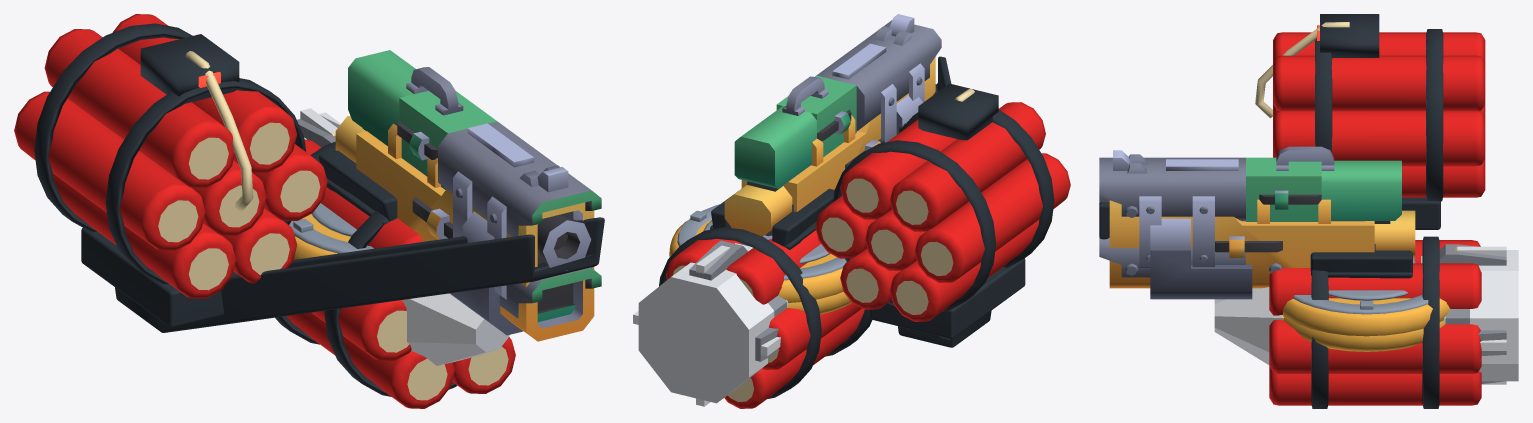
The model's file is arsenal-mounted.glb.
3 renders of one model, left to right at view 1: azimuth 30°, elevation 25°; view 2: azimuth 150°, elevation 25°; view 3: azimuth 270°, elevation 25°, orthographic. The views are drawn at different scales.
Visible parts, largest first — view 1: BombStowedDynamite, BombEjector, SeekerHousing, RocketHousing, BombStowedBandsAndSensor, BombStowedFuse, BombShotDynamite, RocketShotBody, BombShotFuse, BombShotBandsAndSensor, SeekerSaddle, MineRimAndFuze (+1 smaller); view 2: BombStowedDynamite, SeekerHousing, RocketShotBody, BombStowedBandsAndSensor, BombShotDynamite, RocketHousing, BombStowedFuse, BombEjector, BombShotBandsAndSensor, SeekerSaddle, MinePressureShell, MineRimAndFuze (+3 smaller); view 3: BombStowedDynamite, SeekerHousing, BombShotDynamite, RocketHousing, RocketShotBody, BombStowedBandsAndSensor, BombShotBandsAndSensor, MinePressureShell, SeekerSaddle, MineRimAndFuze, MineTrapPressureShell, BombEjector (+3 smaller).
Part boxes in pixels (x1,y1,x2,y2): BombStowedDynamite: (14,14,327,298); BombEjector: (81,217,604,332); SeekerHousing: (348,50,601,321); RocketHousing: (335,116,594,341); BombStowedBandsAndSensor: (34,23,306,284); BombStowedFuse: (158,51,320,290); BombShotDynamite: (286,139,515,408); RocketShotBody: (296,112,509,365); BombShotFuse: (377,310,508,400); BombShotBandsAndSensor: (275,141,457,396); SeekerSaddle: (319,150,397,221); MineRimAndFuze: (289,203,373,253); BombStowedDynamite: (815,102,1070,321); SeekerHousing: (734,14,941,246); RocketShotBody: (638,240,788,403); BombStowedBandsAndSensor: (833,83,1054,311); BombShotDynamite: (666,227,864,408); RocketHousing: (724,26,935,236); BombStowedFuse: (821,88,974,314); BombEjector: (870,56,1025,347); BombShotBandsAndSensor: (659,204,872,398); SeekerSaddle: (711,188,834,246); MinePressureShell: (669,219,843,302); MineRimAndFuze: (677,204,846,280); BombStowedDynamite: (1273,32,1485,197); SeekerHousing: (1099,146,1415,277); BombShotDynamite: (1269,240,1481,405); RocketHousing: (1099,154,1415,299); RocketShotBody: (1214,244,1518,383); BombStowedBandsAndSensor: (1315,14,1443,201); BombShotBandsAndSensor: (1311,236,1439,408); MinePressureShell: (1283,298,1450,336); SeekerSaddle: (1310,250,1412,272); MineRimAndFuze: (1293,290,1440,314); MineTrapPressureShell: (1283,317,1444,351); BombEjector: (1099,197,1440,239).
Size of the model in its own units: 1.57 by 1.35 by 1.73.
7 materials, 1 textured.
